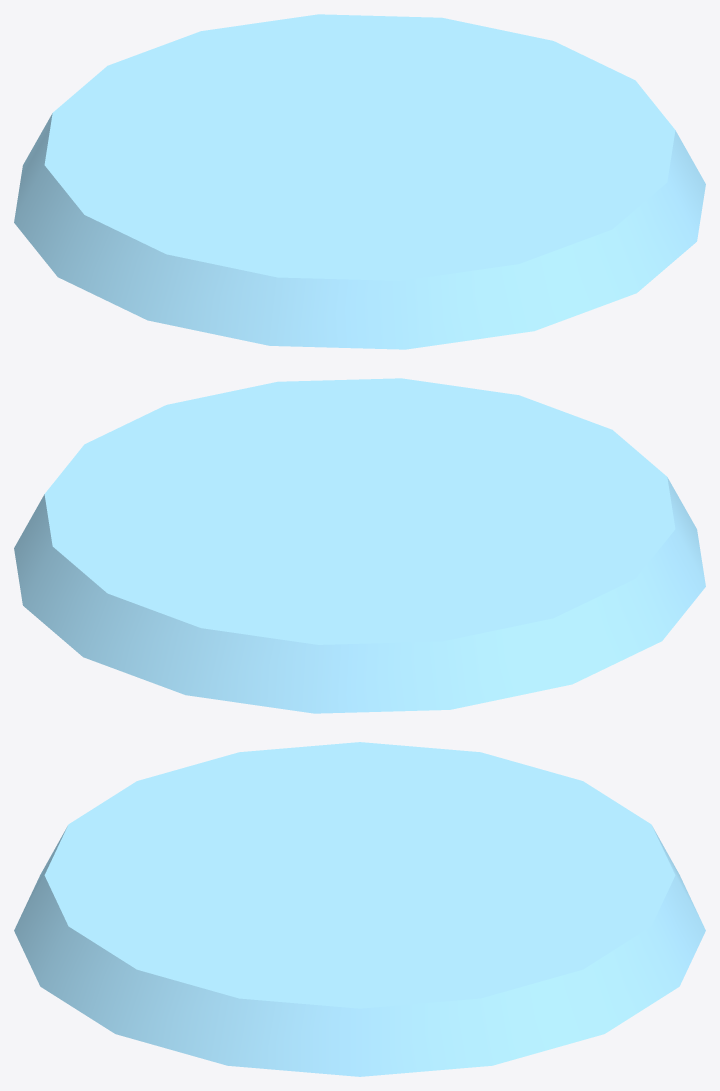
File: well-of-urd-pool.glb
3 views of the same model, one above another, from view 1: azimuth 30°, elevation 25°; view 2: azimuth 150°, elevation 25°; view 3: azimuth 270°, elevation 25° (orthographic).
Parts seen in each view (by area): view 1: Well of Urd Pool; view 2: Well of Urd Pool; view 3: Well of Urd Pool.
Boxes of the visible parts, bbox=[...] form: Well of Urd Pool: bbox=[14, 14, 705, 349]; Well of Urd Pool: bbox=[14, 378, 705, 713]; Well of Urd Pool: bbox=[14, 742, 705, 1076].
Size of the model in its own units: 18.73 by 1.65 by 18.73.
